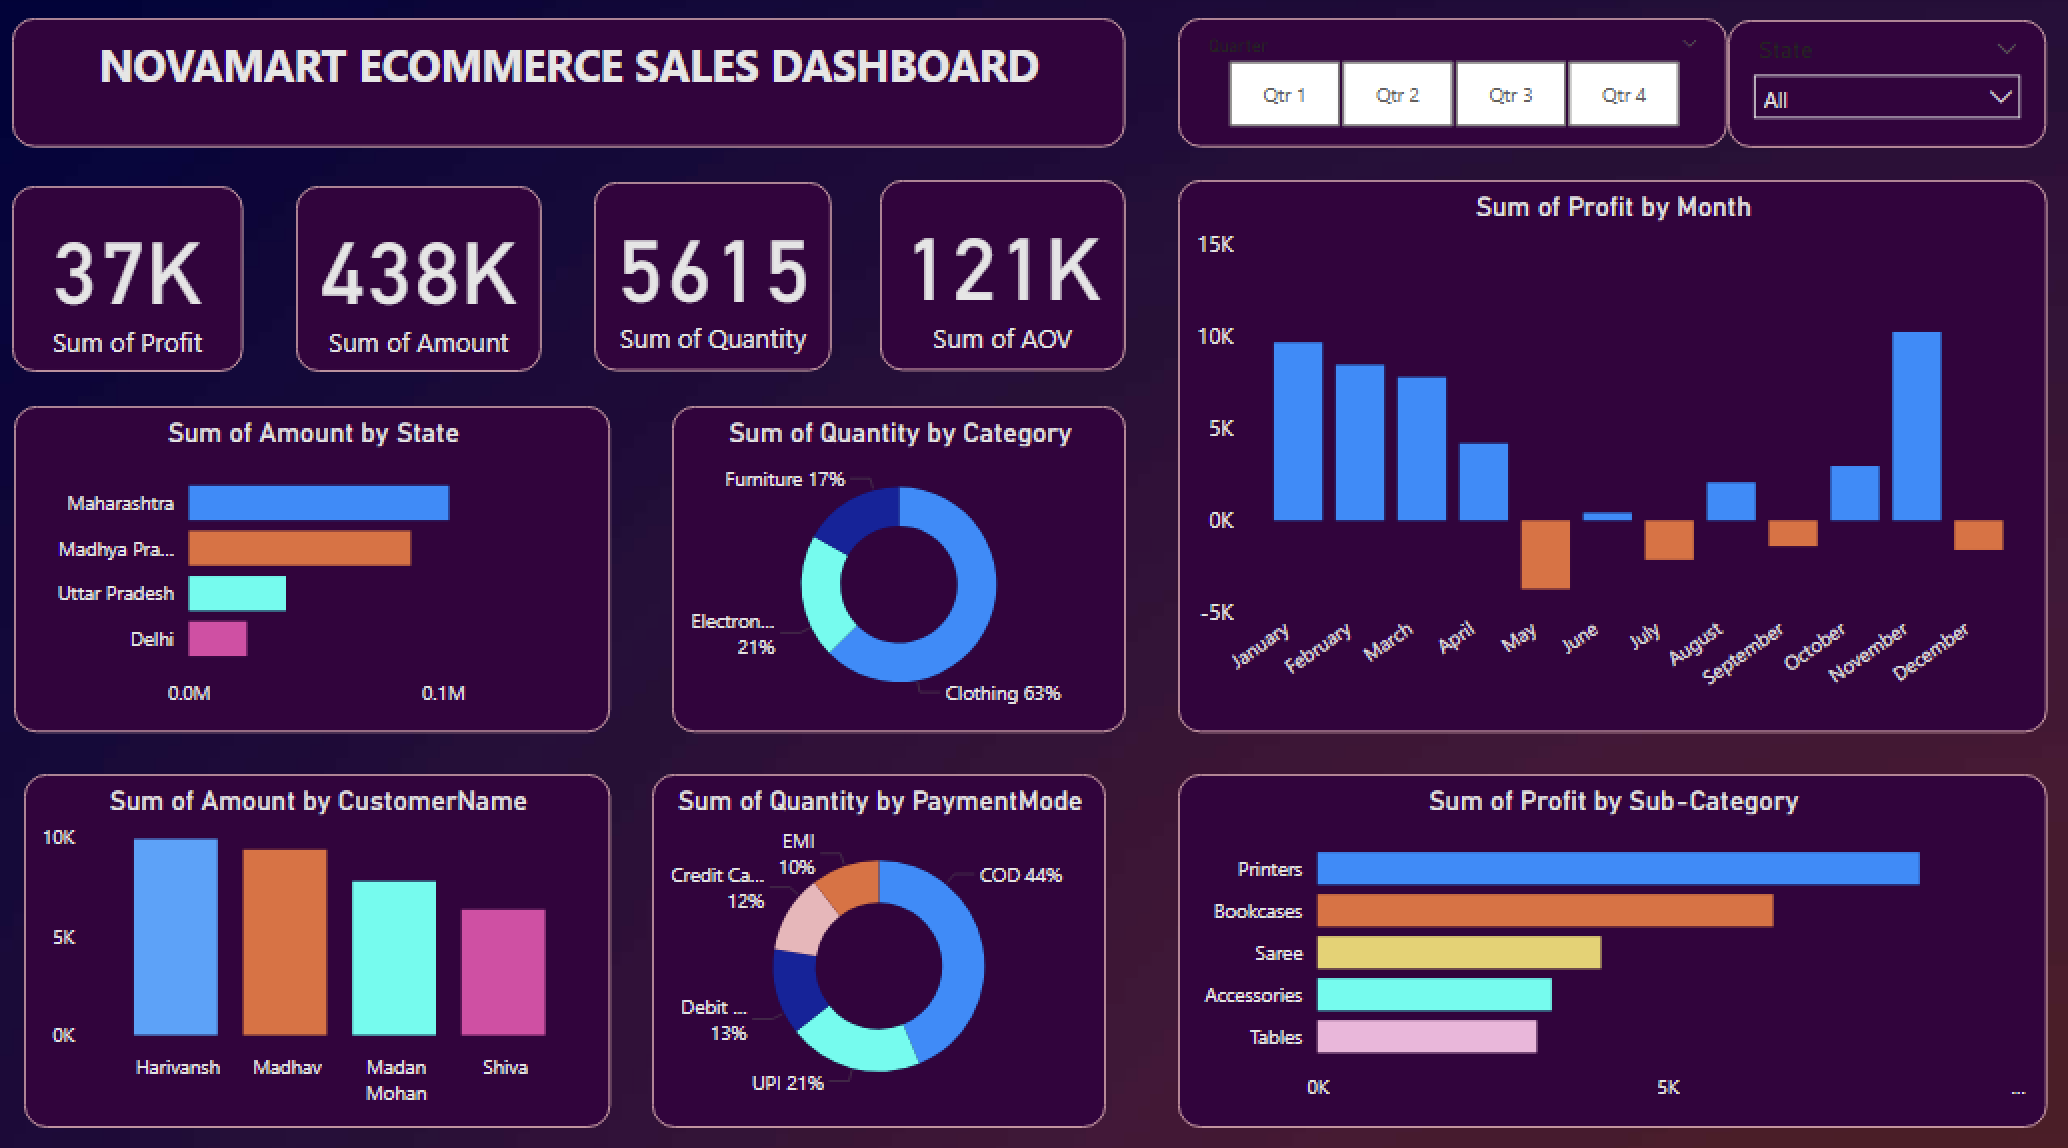

The page's visual inventory and layout, read from the dashboard file:
{"tool":"powerbi","page":{"name":"Page 1","canvas":[1280,720],"ordinal":0},"visuals":[{"type":"textbox","box":[7.6,15.2,689.3,80.5],"z":0},{"type":"columnChart","fields":{"Category":["Orders.Order Date.Variation.Date Hierarchy.Month"],"Y":["Details.Profit"]},"box":[728.8,115.4,537.5,341.6],"z":1},{"type":"barChart","fields":{"Category":["Details.Sub-Category"],"Y":["Details.Profit"]},"box":[728.8,482.8,537.5,218.6],"z":2},{"type":"donutChart","fields":{"Category":["Details.Category"],"Y":["Details.Quantity"]},"box":[416,255.1,280.9,201.9],"z":3},{"type":"donutChart","fields":{"Category":["Details.PaymentMode"],"Y":["Details.Quantity"]},"box":[403.9,482.8,280.9,218.6],"z":4},{"type":"card","fields":{"Values":["Details.Profit"]},"box":[7.6,118.4,142.7,115.4],"z":5},{"type":"card","fields":{"Values":["Details.Amount"]},"box":[183.7,118.4,151.8,115.4],"z":6},{"type":"card","fields":{"Values":["Details.Quantity"]},"box":[367.4,116.9,147.3,116.9],"z":7},{"type":"card","fields":{"Values":["Details.AOV"]},"box":[545.1,115.4,151.8,118.4],"z":8},{"type":"barChart","fields":{"Category":["Orders.State"],"Y":["Details.Amount"]},"box":[9.1,255.1,369,201.9],"z":9},{"type":"columnChart","fields":{"Category":["Orders.CustomerName"],"Y":["Details.Amount"]},"box":[15.2,482.8,362.9,218.6],"z":10},{"type":"slicer","fields":{"Values":["Orders.Order Date.Variation.Date Hierarchy.Quarter"]},"box":[728.8,15.2,340.1,80.5],"z":11},{"type":"slicer","fields":{"Values":["Orders.State"]},"box":[1068.9,16.7,197.4,79],"z":12}]}

Visuals, with their boxes in screenshot pixels (x1, y1, x2, y2), scaled from the page's 1280x720 canvas onto the 2068x1148 screenshot:
textbox: (12,24,1126,153)
columnChart - Orders.Order Date.Variation.Date Hierarchy.Month x Details.Profit: (1177,184,2046,729)
barChart - Details.Sub-Category x Details.Profit: (1177,770,2046,1118)
donutChart - Details.Category x Details.Quantity: (672,407,1126,729)
donutChart - Details.PaymentMode x Details.Quantity: (653,770,1106,1118)
card - Details.Profit: (12,189,243,373)
card - Details.Amount: (297,189,542,373)
card - Details.Quantity: (594,186,832,373)
card - Details.AOV: (881,184,1126,373)
barChart - Orders.State x Details.Amount: (15,407,611,729)
columnChart - Orders.CustomerName x Details.Amount: (25,770,611,1118)
slicer - Orders.Order Date.Variation.Date Hierarchy.Quarter: (1177,24,1727,153)
slicer - Orders.State: (1727,27,2046,153)
